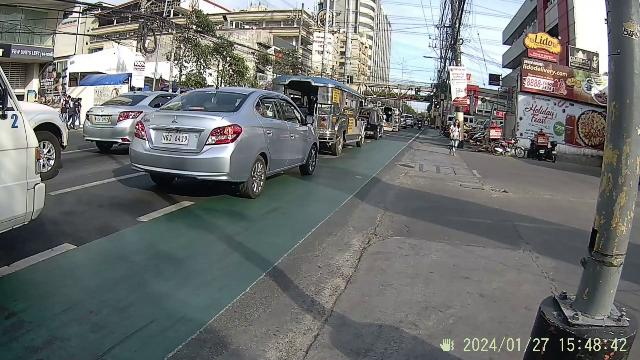utility_post: (536, 2, 634, 360)
